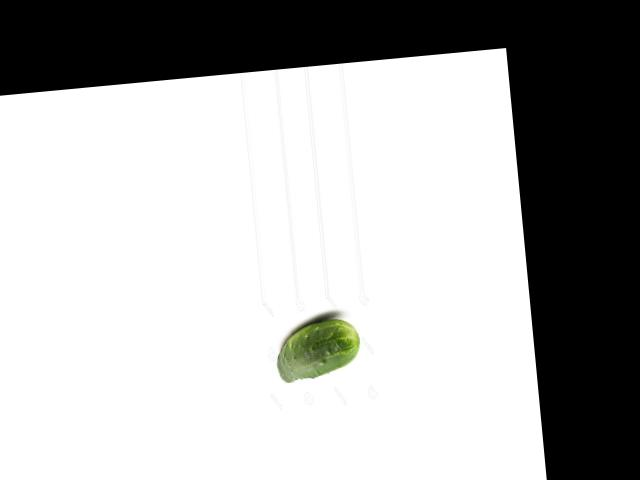cucumber: (273, 316, 363, 383)
